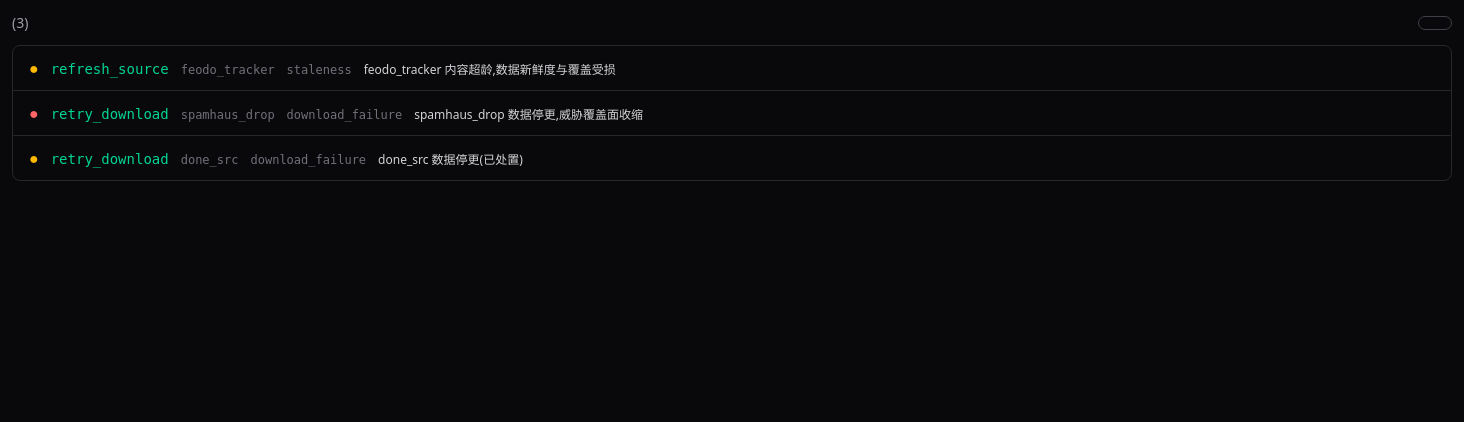
Test: OpsReviewSection — 列表(票 #156) › 展开行 → 详情 = 条目全文逐字(readOpsItem 惰性取)
Click the button "retry_download" at (110, 114), box [13,91,1451,135]
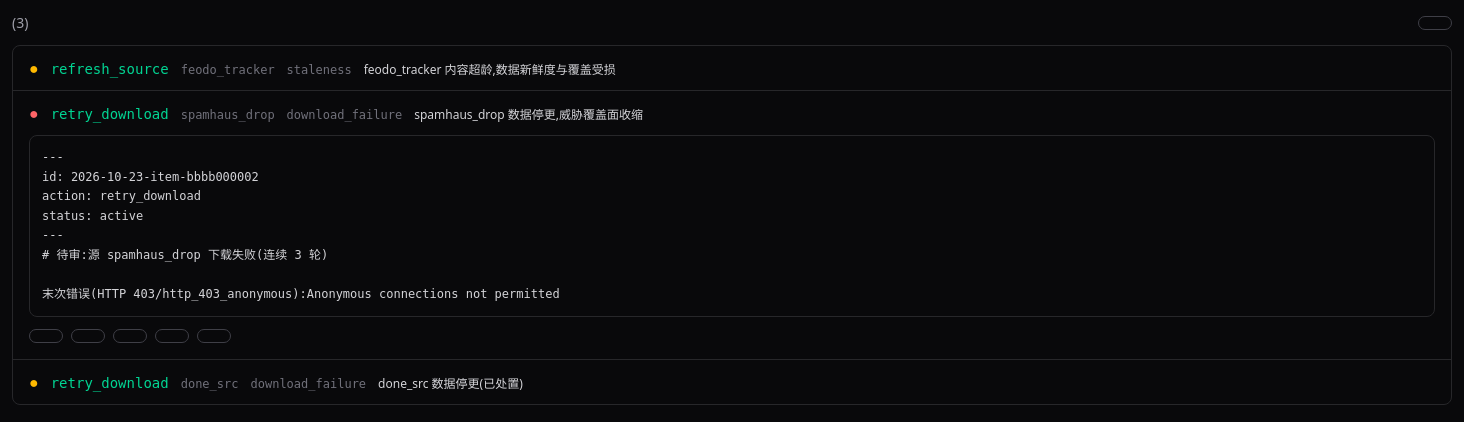
Now the text "# 待审:源 spamhaus_drop 下载失败" is shown, box [42,150,560,300]
